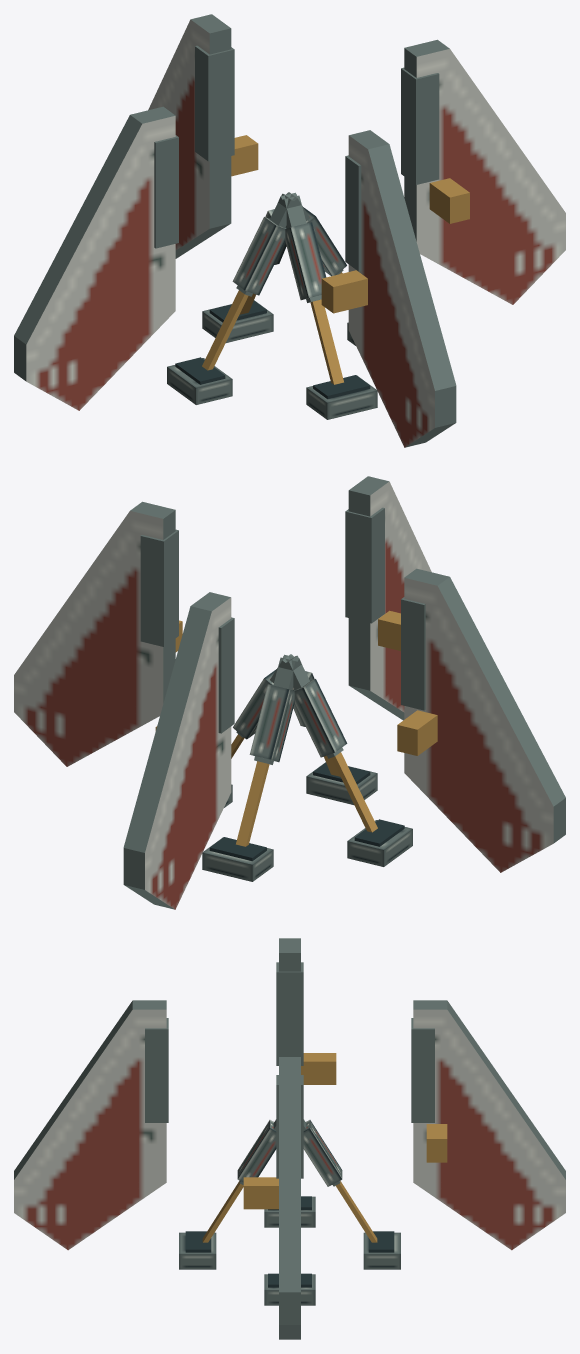
Rendered from rocket_fins_tier_2.obj.
The picture shows the model from 3 angles, top to bottom: view 1: azimuth 30°, elevation 25°; view 2: azimuth 150°, elevation 25°; view 3: azimuth 270°, elevation 25°; orthographic projection. The views are drawn at different scales.
Visible parts, largest first — view 1: Fins, LegSouth, LegWest, LegNorth, LegEast; view 2: Fins, LegNorth, LegWest, LegSouth, LegEast; view 3: Fins, LegNorth, LegSouth, LegEast, LegWest.
Boxes of the visible parts, x1,y1,x2,y2 form: Fins: [14, 14, 565, 447]; LegSouth: [280, 195, 377, 419]; LegWest: [167, 193, 297, 404]; LegNorth: [202, 192, 297, 342]; LegEast: [286, 192, 355, 345]; Fins: [14, 476, 565, 909]; LegNorth: [202, 657, 299, 881]; LegWest: [282, 655, 412, 866]; LegSouth: [282, 654, 377, 804]; LegEast: [224, 654, 293, 807]; Fins: [14, 938, 565, 1339]; LegNorth: [303, 1119, 400, 1269]; LegSouth: [179, 1119, 276, 1269]; LegEast: [264, 1273, 315, 1305]; LegWest: [264, 1196, 315, 1227].
Size of the model in its own units: 2.67 by 1.36 by 2.67.
